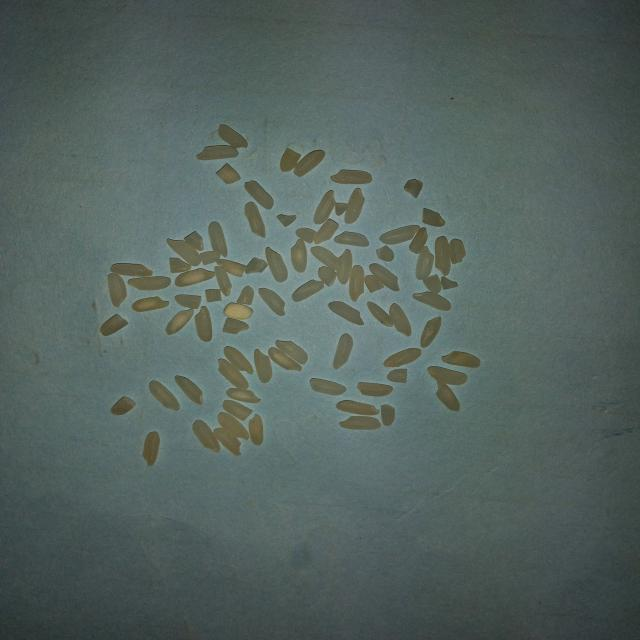Broken: (310, 246, 342, 271), (292, 279, 324, 302), (314, 219, 339, 244), (100, 314, 128, 335), (223, 400, 252, 420), (223, 302, 254, 320), (216, 260, 247, 278), (408, 227, 428, 254), (216, 163, 241, 184), (110, 396, 137, 415), (280, 148, 301, 172), (422, 208, 446, 227), (223, 318, 249, 335), (317, 266, 338, 286), (450, 239, 466, 264), (184, 231, 204, 251), (174, 294, 202, 308), (245, 258, 268, 274), (423, 275, 442, 294), (404, 179, 423, 198), (168, 258, 192, 273), (364, 275, 384, 293), (237, 286, 254, 306), (200, 250, 221, 266), (296, 228, 317, 244), (381, 404, 395, 426), (376, 245, 394, 262), (387, 369, 407, 383), (276, 215, 296, 228), (441, 276, 458, 290), (205, 289, 222, 302), (335, 203, 348, 216)
Full: (166, 238, 202, 266), (218, 358, 249, 389), (149, 380, 180, 410), (244, 180, 274, 210), (369, 263, 400, 292), (294, 150, 326, 178), (192, 420, 220, 452), (218, 412, 249, 440), (328, 301, 364, 325), (224, 346, 253, 375), (378, 224, 419, 244), (268, 348, 302, 372), (175, 376, 204, 404), (265, 247, 288, 282), (412, 291, 452, 311), (275, 340, 308, 364), (214, 428, 242, 456), (175, 268, 215, 287), (344, 188, 365, 224), (258, 288, 285, 316), (314, 190, 336, 224), (428, 366, 467, 385), (245, 201, 265, 238), (334, 333, 354, 370), (166, 309, 194, 335), (389, 303, 411, 336), (384, 348, 422, 367), (208, 222, 228, 258), (436, 381, 460, 411), (420, 316, 442, 348), (218, 125, 248, 148), (435, 235, 454, 271), (107, 273, 127, 307), (415, 246, 435, 280), (310, 378, 347, 396), (442, 351, 481, 368), (336, 400, 380, 415), (367, 302, 393, 327), (196, 145, 239, 160), (194, 306, 212, 341), (254, 349, 272, 383), (110, 263, 153, 277), (128, 276, 171, 290), (330, 170, 372, 184), (339, 416, 381, 430), (143, 432, 160, 466), (349, 264, 364, 302), (334, 231, 369, 247), (132, 297, 169, 312), (291, 239, 307, 273), (214, 266, 232, 296), (337, 248, 352, 284), (226, 388, 261, 403), (358, 382, 393, 397), (249, 414, 263, 446)
